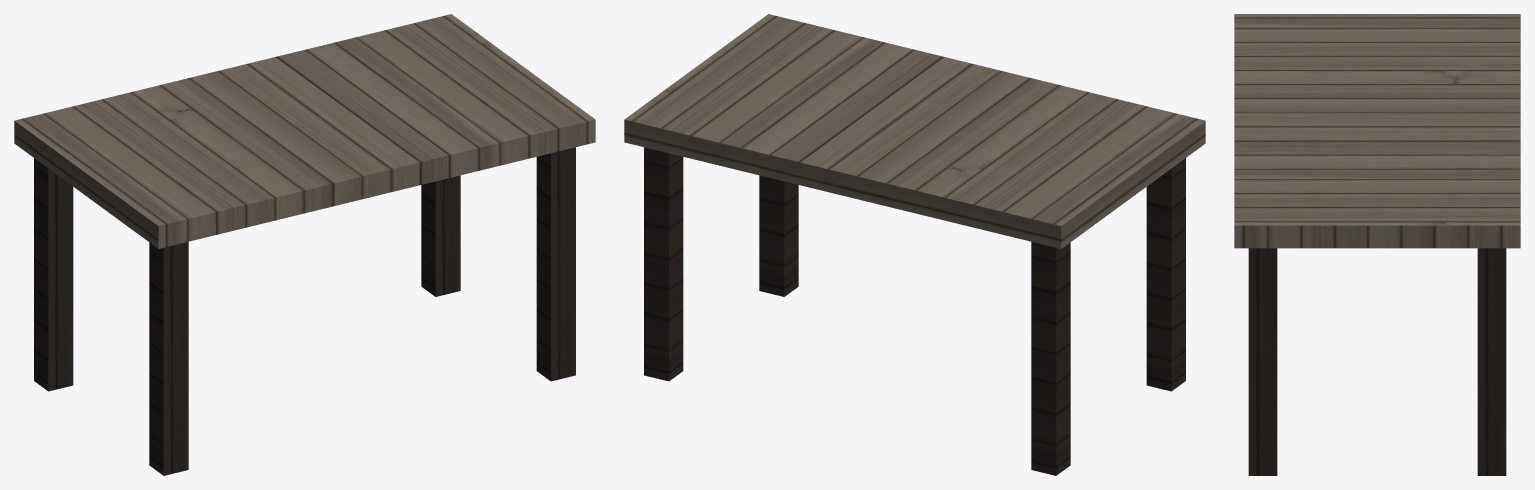
Rendered from table_wood_01.glb.
3 views of the same model, side by side, from view 1: azimuth 30°, elevation 25°; view 2: azimuth 150°, elevation 25°; view 3: azimuth 270°, elevation 25° (orthographic).
Parts seen in each view (by area): view 1: table_wood_01; view 2: table_wood_01; view 3: table_wood_01.
Boxes of the visible parts, x1,y1,x2,y2 form: table_wood_01: (14,14,595,475); table_wood_01: (624,14,1205,475); table_wood_01: (1234,14,1520,475).
Bounding box in the file's own units: 1.4 × 0.79 × 0.8.
2 materials, 2 textured.
